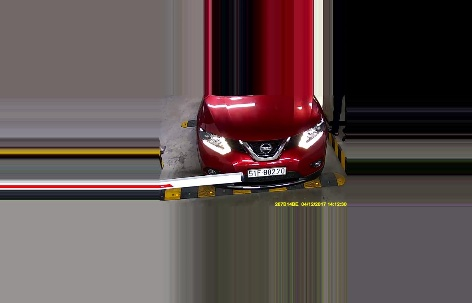plate: (244, 166, 289, 178)
